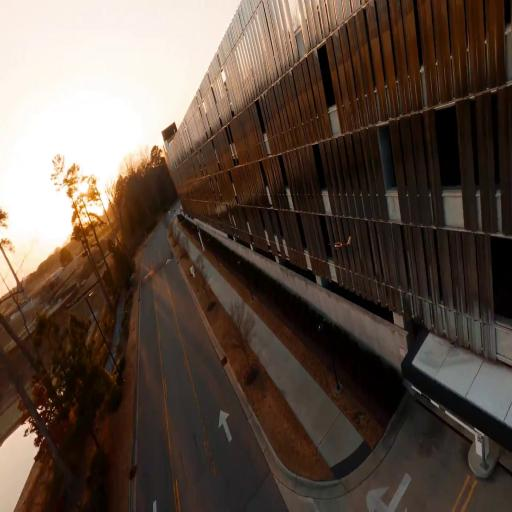uav: (328, 236, 355, 250)
